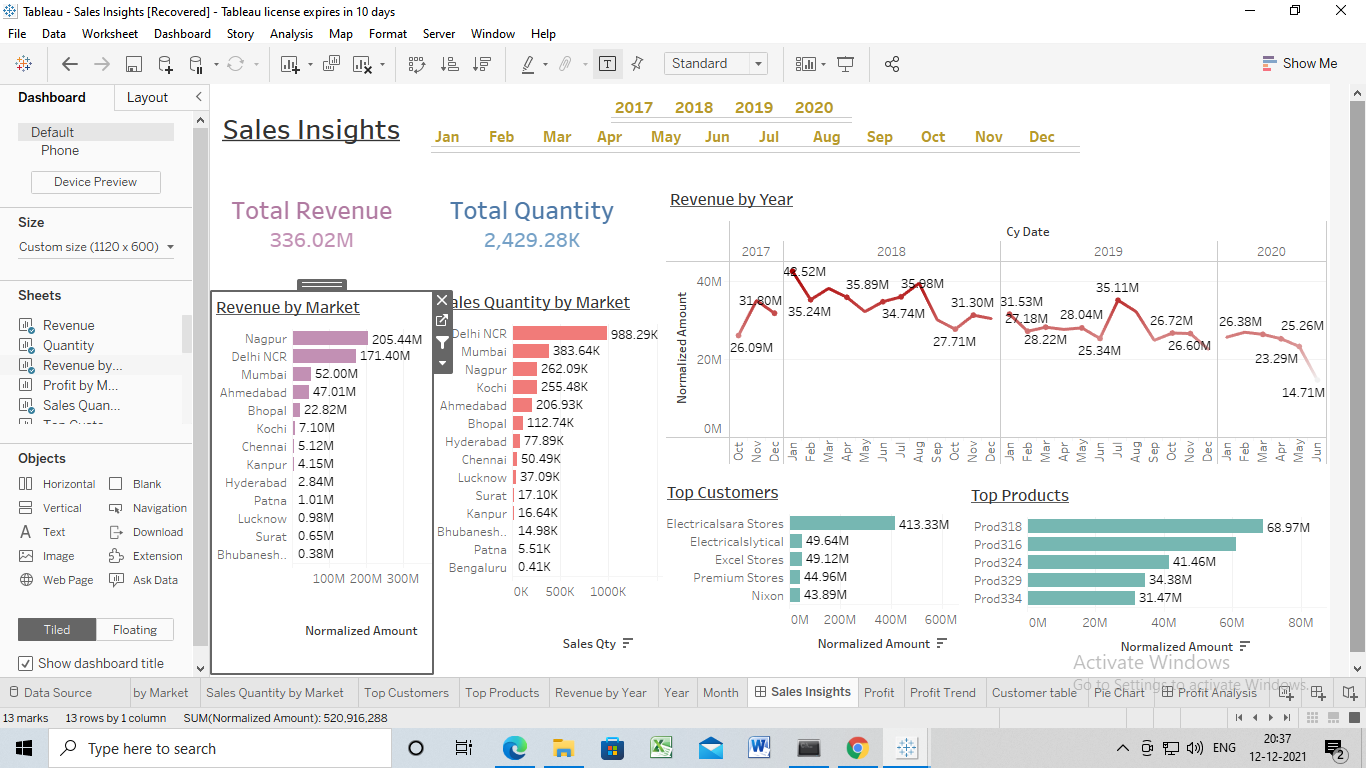

What the dashboard file says about the page in this screenshot:
{"tool":"tableau","page":{"name":"Sales Insights","canvas":[1120,600],"ordinal":1},"visuals":[{"type":"title","box":[10,5,186,78]},{"type":"worksheet","title":"Year","mark":"Automatic","cols":["cy_date"],"box":[401.2,13,245.4,29]},{"type":"worksheet","title":"Month","mark":"Automatic","cols":["cy_date"],"box":[220.9,42,664.9,29]},{"type":"worksheet","title":"Revenue by Year","mark":"Automatic","rows":["Calculation_901001447928795136"],"cols":["cy_date","cy_date"],"box":[456,100,661,281]},{"type":"worksheet","title":"Revenue","mark":"Automatic","box":[12.2,108,184.3,61]},{"type":"worksheet","title":"Quantity","mark":"Automatic","box":[232.1,108,188.4,73]},{"type":"worksheet","title":"Sales Quantity by Market","mark":"Automatic","rows":["markets_name"],"cols":["sales_qty"],"box":[226,203,231.1,385]},{"type":"worksheet","title":"Revenue by Market","mark":"Automatic","rows":["markets_name"],"cols":["Calculation_901001447928795136"],"box":[2,208,219.9,381]},{"type":"worksheet","title":"Top Customers","mark":"Automatic","rows":["custmer_name"],"cols":["Calculation_901001447928795136"],"box":[453,393,296,185]},{"type":"worksheet","title":"Top Products","mark":"Automatic","rows":["product_code"],"cols":["Calculation_901001447928795136"],"box":[757,396,360,192]}]}

Visuals, with their boxes on the page's 1120x600 design canvas (x1, y1, x2, y2). These are canvas units, not pixel positions in the 1366x768 screenshot, which may show the page scaled, cropped or inside an application window:
title: {"left": 10, "top": 5, "right": 196, "bottom": 83}
"Year" worksheet: {"left": 401, "top": 13, "right": 647, "bottom": 42}
"Month" worksheet: {"left": 221, "top": 42, "right": 886, "bottom": 71}
"Revenue by Year" worksheet: {"left": 456, "top": 100, "right": 1117, "bottom": 381}
"Revenue" worksheet: {"left": 12, "top": 108, "right": 196, "bottom": 169}
"Quantity" worksheet: {"left": 232, "top": 108, "right": 420, "bottom": 181}
"Sales Quantity by Market" worksheet: {"left": 226, "top": 203, "right": 457, "bottom": 588}
"Revenue by Market" worksheet: {"left": 2, "top": 208, "right": 222, "bottom": 589}
"Top Customers" worksheet: {"left": 453, "top": 393, "right": 749, "bottom": 578}
"Top Products" worksheet: {"left": 757, "top": 396, "right": 1117, "bottom": 588}
